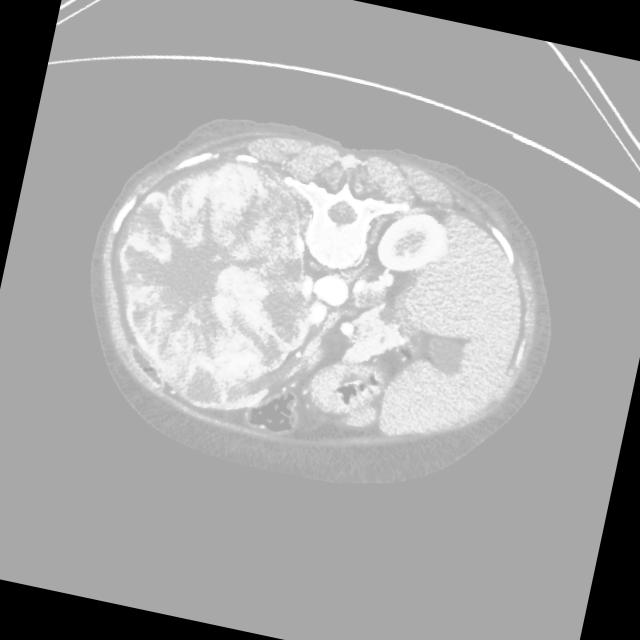TUMOR: (119, 199, 422, 415)
